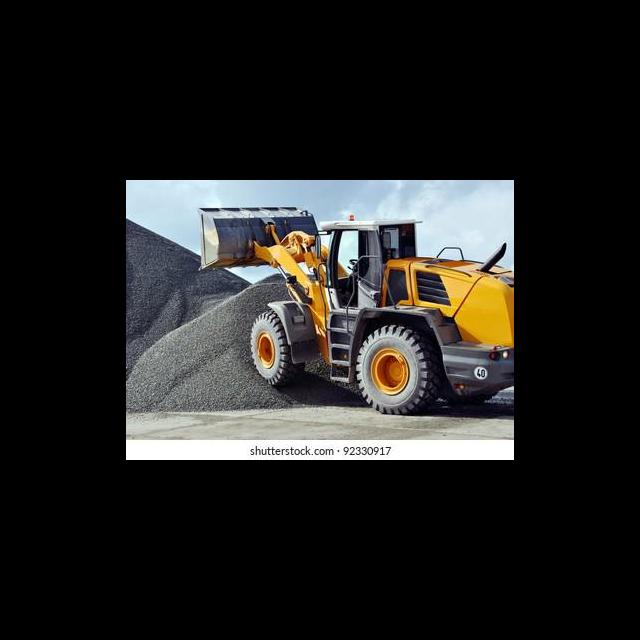wheel loader: (196, 202, 513, 417)
